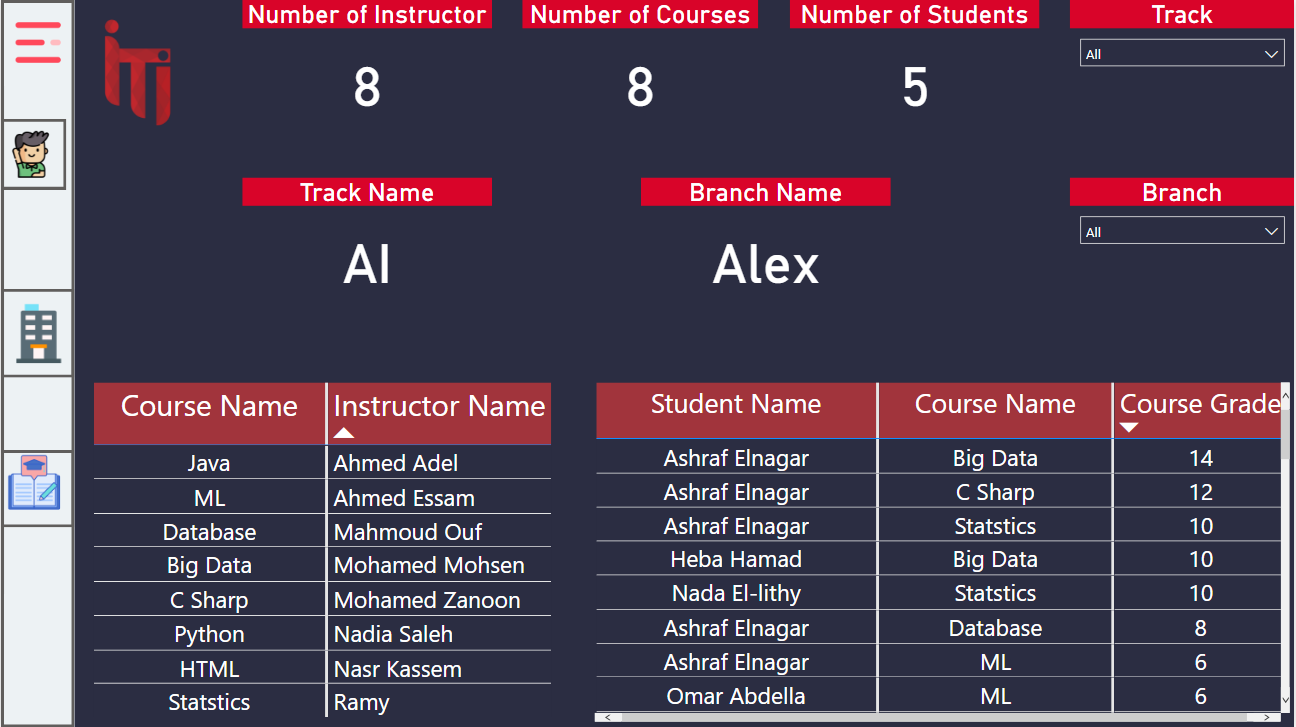

What the dashboard file says about the page in this screenshot:
{"tool":"powerbi","page":{"name":"Branch","canvas":[1280,720],"ordinal":2},"visuals":[{"type":"actionButton","box":[0,0,72.8,719.7],"z":0},{"type":"image","box":[0,15.1,72.8,54.9],"z":1000},{"type":"image","box":[72.8,0,127.7,129.1],"z":2000},{"type":"card","title":"Number of Instructor","fields":{"Values":["CountNonNull(Instructor.Ins_id)"]},"box":[239,0,247.2,129.1],"z":3000},{"type":"actionButton","box":[0,118.1,64.5,70],"z":4000},{"type":"image","box":[1.4,118.1,56.3,70],"z":5000},{"type":"slicer","title":"Track","fields":{"Values":["Department.dept_name"]},"box":[1057.5,0,222.5,85.2],"z":6000},{"type":"card","title":"Number of Courses","fields":{"Values":["CountNonNull(Ins_Crs.Crs_id)"]},"box":[516.4,0,233.5,129.1],"z":7000},{"type":"slicer","title":"Branch","fields":{"Values":["Department.branch"]},"box":[1057.5,175.8,222.5,85.2],"z":8000},{"type":"tableEx","fields":{"Values":["Course.Crs_Name","Instructor.Ins_name"]},"box":[85.2,373.6,475.2,346.1],"z":9000},{"type":"card","title":"Track Name","fields":{"Values":["Min(Department.dept_name)"]},"box":[239,175.8,247.2,129.1],"z":10000},{"type":"card","title":"Number of Branches","fields":{"Values":["Count(Department.branch)"]},"box":[780.1,0,247.2,129.1],"z":11000},{"type":"tableEx","fields":{"Values":["Student.Student Name","Course.Crs_Name","Sum(St_Crs.Crs_grade)"]},"box":[582.3,373.6,697.7,346.1],"z":12000},{"type":"card","title":"Branch Name","fields":{"Values":["Min(Department.branch)"]},"box":[633.1,175.8,247.2,129.1],"z":13000},{"type":"image","box":[2.7,285.7,70,87.9],"z":14000},{"type":"actionButton","box":[0,285.7,72.8,87.9],"z":15000},{"type":"image","box":[0,445,65.9,64.5],"z":16000},{"type":"actionButton","box":[0,445,72.8,76.9],"z":17000}]}

Visuals, with their boxes on the page's 1280x720 design canvas (x1, y1, x2, y2). These are canvas units, not pixel positions in the 1296x727 screenshot, which may show the page scaled, cropped or inside an application window:
actionButton: crop(0, 0, 73, 720)
image: crop(0, 15, 73, 70)
image: crop(73, 0, 200, 129)
"Number of Instructor" card: crop(239, 0, 486, 129)
actionButton: crop(0, 118, 64, 188)
image: crop(1, 118, 58, 188)
"Track" slicer: crop(1058, 0, 1280, 85)
"Number of Courses" card: crop(516, 0, 750, 129)
"Branch" slicer: crop(1058, 176, 1280, 261)
tableEx - Course.Crs_Name x Instructor.Ins_name: crop(85, 374, 560, 720)
"Track Name" card: crop(239, 176, 486, 305)
"Number of Branches" card: crop(780, 0, 1027, 129)
tableEx - Student.Student Name x Course.Crs_Name: crop(582, 374, 1280, 720)
"Branch Name" card: crop(633, 176, 880, 305)
image: crop(3, 286, 73, 374)
actionButton: crop(0, 286, 73, 374)
image: crop(0, 445, 66, 510)
actionButton: crop(0, 445, 73, 522)
